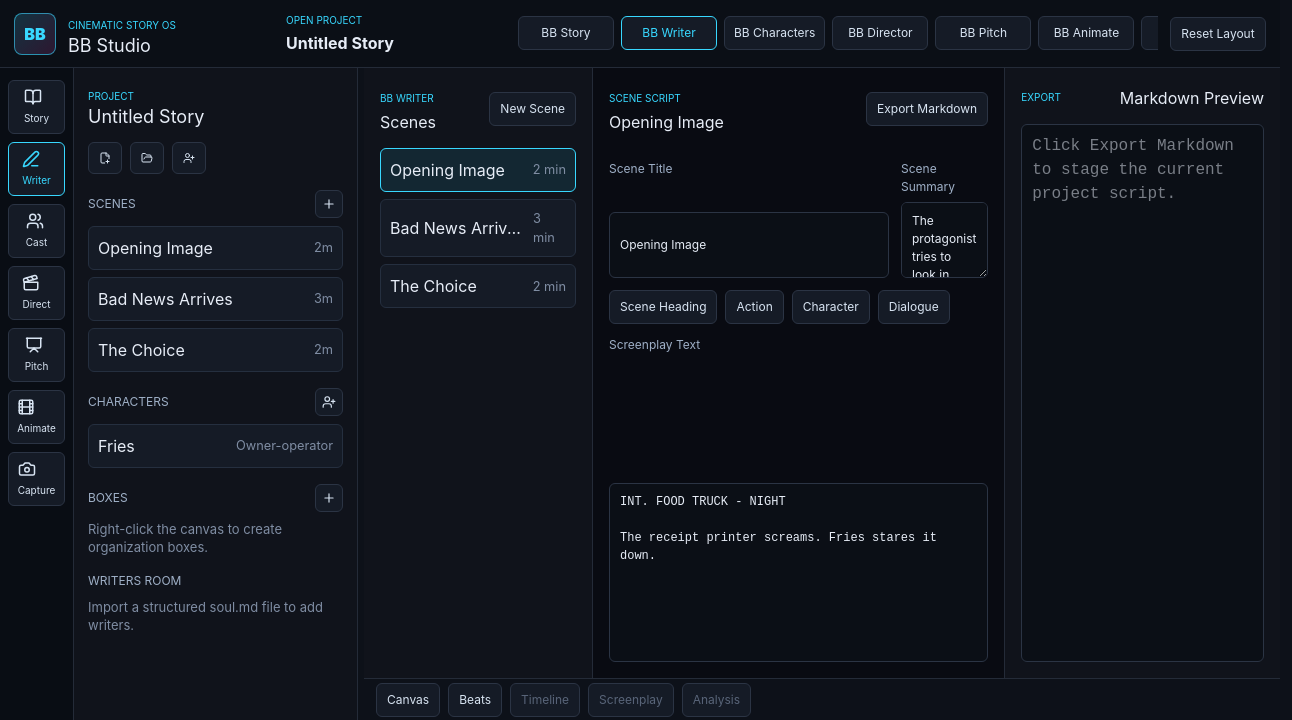
Test: App › switches BB Story from the node canvas to a beat board
The image size is (1292, 720).
Click the button "Beats".
click(475, 700)  # box [448, 682, 502, 716]
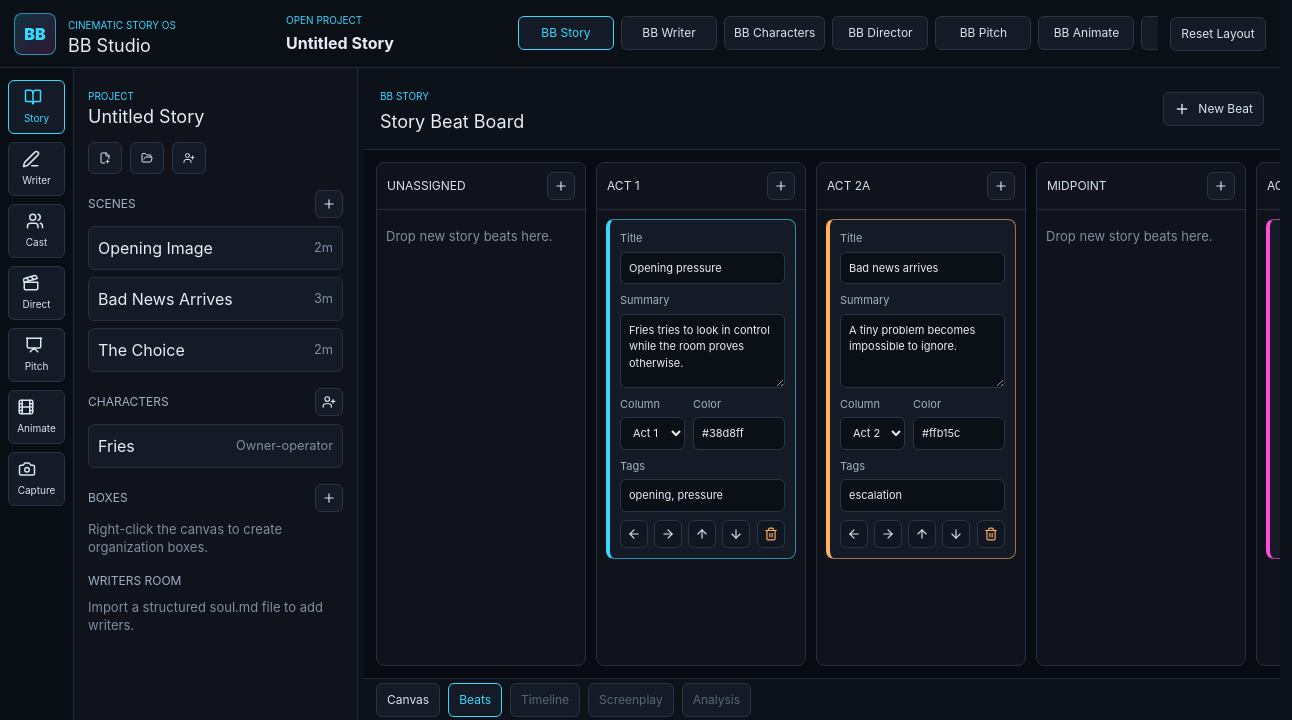
Result: the heading "Story Beat Board" is shown at [380, 108, 524, 135]
Result: the heading "Act 1" is shown at [607, 177, 640, 195]
Result: the field showing "Opening pressure" below "Act 1" is shown at [620, 252, 785, 284]
